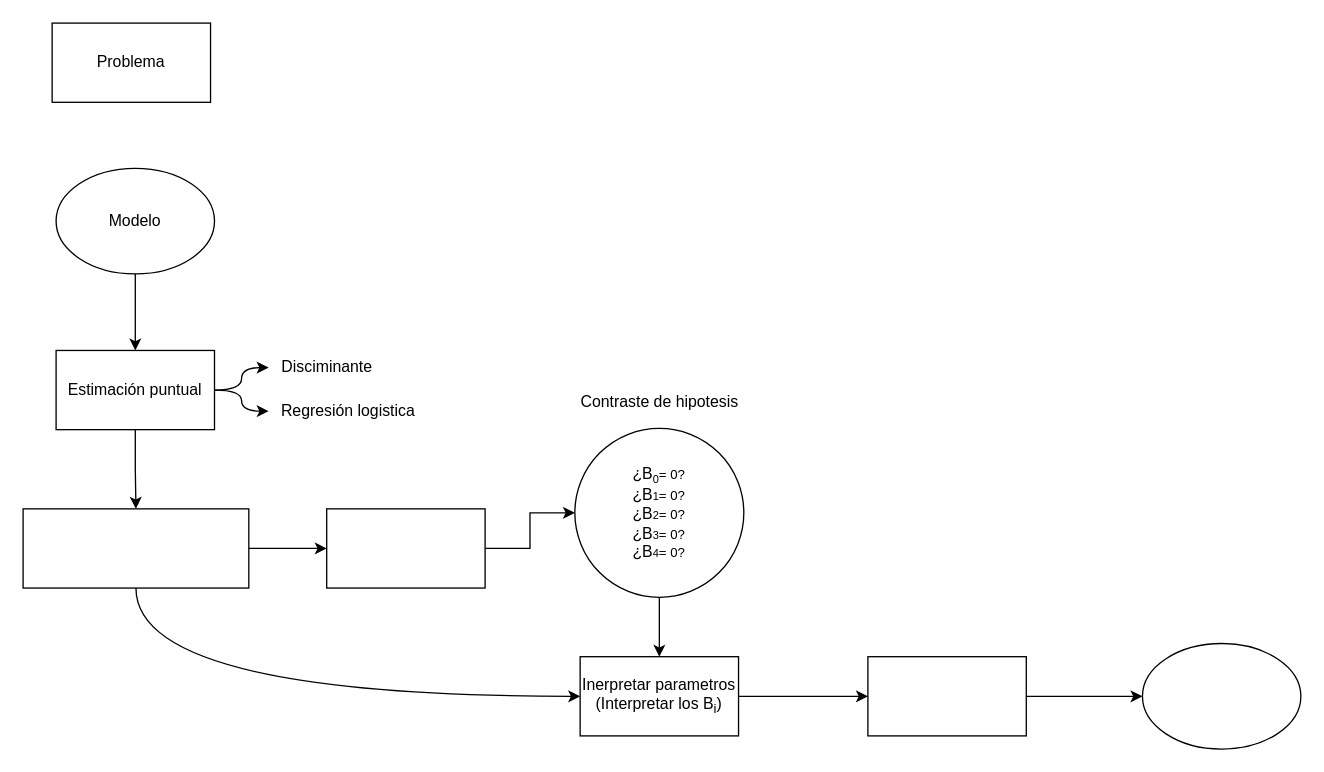
Some shapes in this 1324 by 772 pixel diagram are drawn without their labels. Here are the shapes that lost their labels. From the top down, the box of each, then its label:
(22, 508, 249, 588): I.C. Intervalo de confianza
(325, 508, 485, 588): Navaja de Ockam
